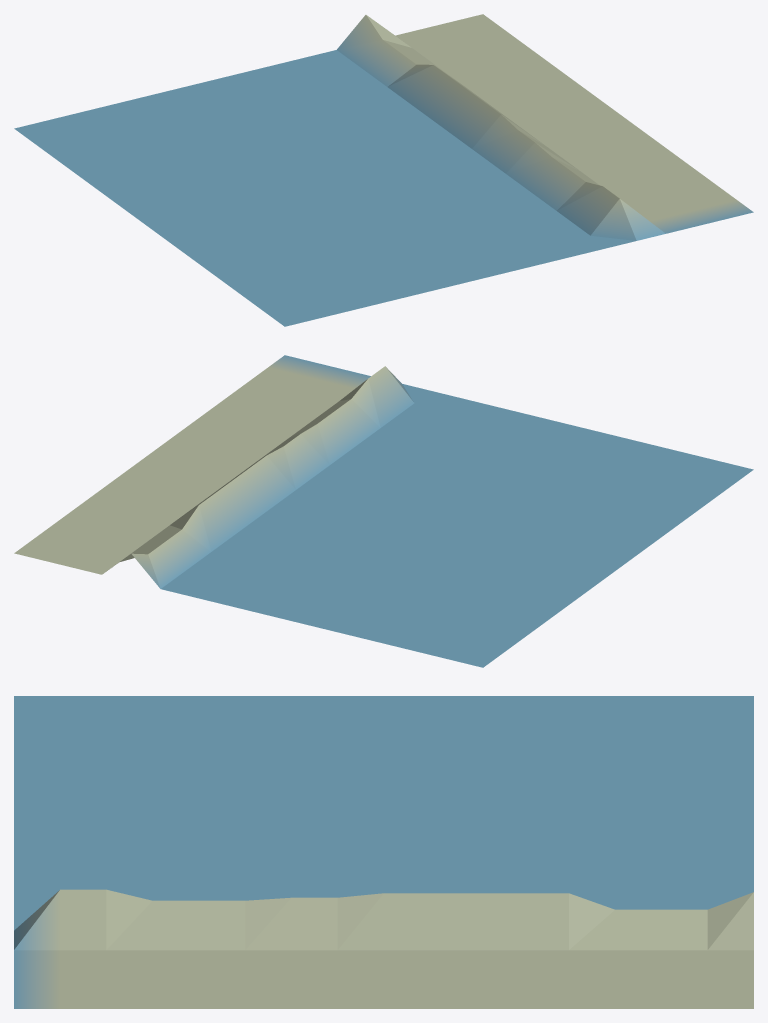
3 views of the same model, one above another, from view 1: azimuth 30°, elevation 25°; view 2: azimuth 150°, elevation 25°; view 3: azimuth 270°, elevation 25° (orthographic). The views are drawn at different scales.
Size of the model in its own units: 32 by 1.96 by 32.
